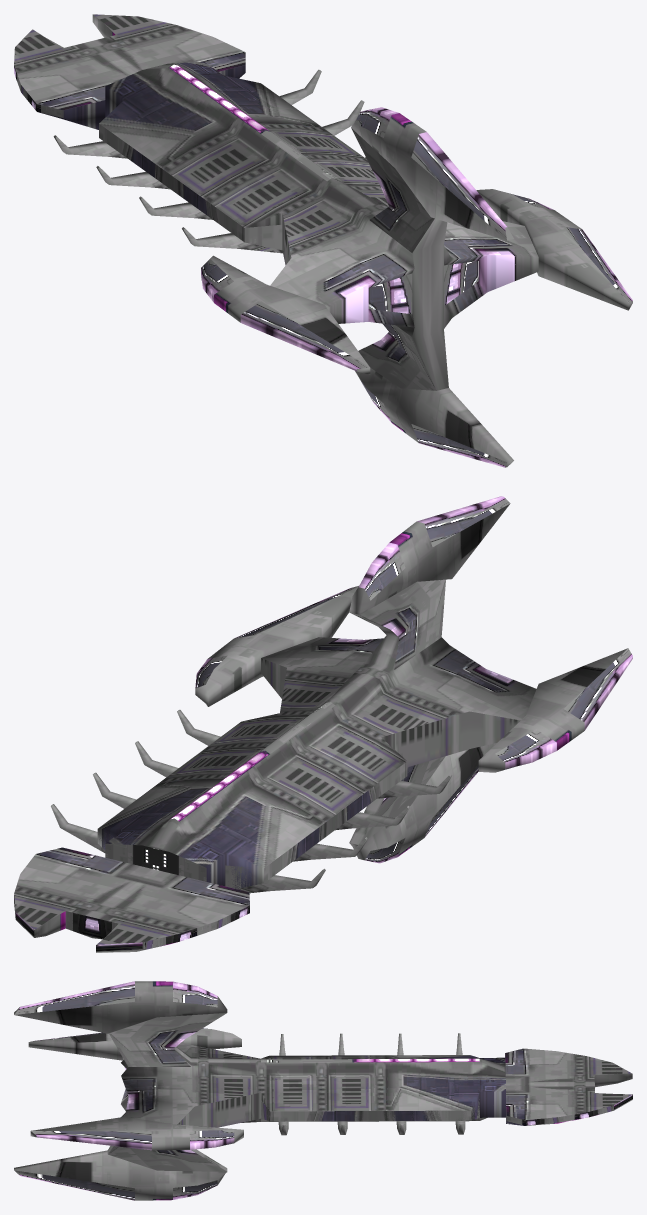
Rendered from Dom_Minion.fbx.
3 renders of one model, top to bottom at view 1: azimuth 30°, elevation 25°; view 2: azimuth 150°, elevation 25°; view 3: azimuth 270°, elevation 25°, orthographic. The views are drawn at different scales.
Parts seen in each view (by area): view 1: Dom_Minion; view 2: Dom_Minion; view 3: Dom_Minion.
Part boxes in pixels (x1,y1,x2,y2): Dom_Minion: (14,14,632,467); Dom_Minion: (14,496,632,952); Dom_Minion: (14,981,632,1200).
Size of the model in its own units: 253 by 218 by 564.
Materials: 1 (1 with a texture image).
